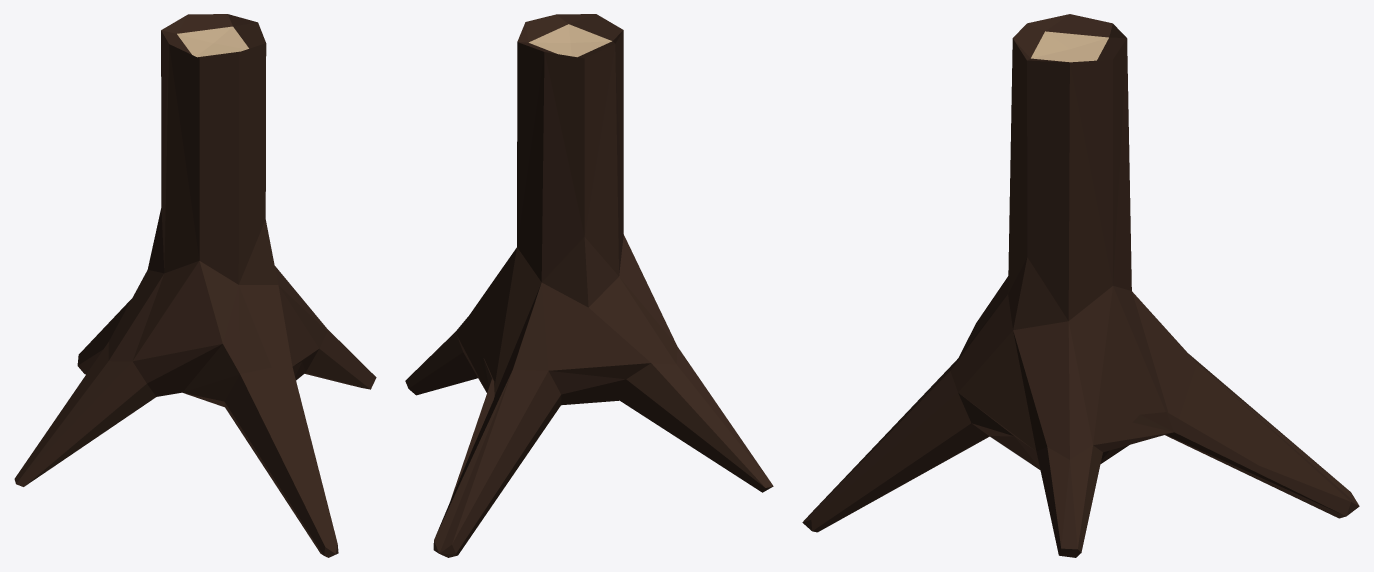
The model's file is trunk5.fbx.
The picture shows the model from 3 angles, left to right: view 1: azimuth 30°, elevation 25°; view 2: azimuth 150°, elevation 25°; view 3: azimuth 270°, elevation 25°; orthographic projection. The views are drawn at different scales.
Visible parts, largest first — view 1: trunk5; view 2: trunk5; view 3: trunk5.
Boxes of the visible parts, x1,y1,x2,y2 form: trunk5: (14, 14, 376, 557); trunk5: (405, 14, 773, 557); trunk5: (802, 14, 1359, 557).
Size of the model in its own units: 71.38 by 84 by 86.05.
